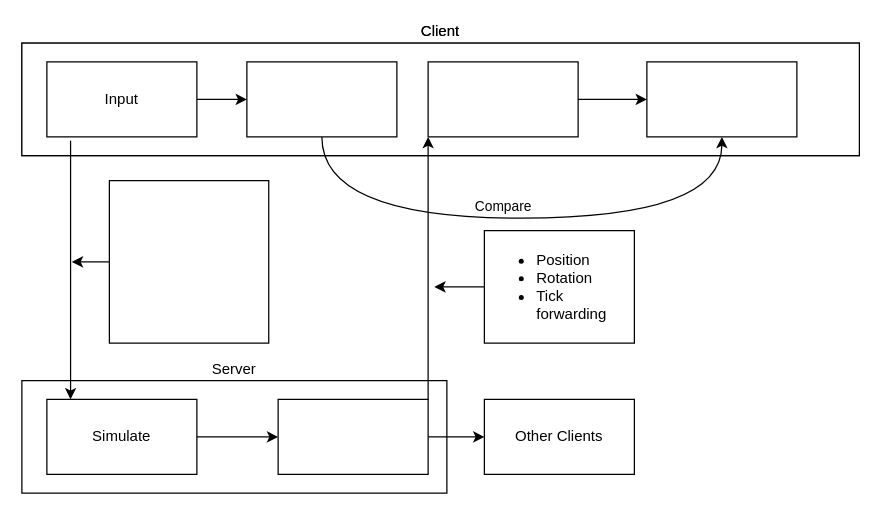
Some shapes in this 881 by 515 pixel diagram are drawn without their labels. The centre of each missing label's shape, as x and y in pixels:
Predicting State: (321,99)
Real State: (721,99)
State: (352,436)
State calculating: (502,99)
tick num player id wasd delta_x delta_y: (188,261)
